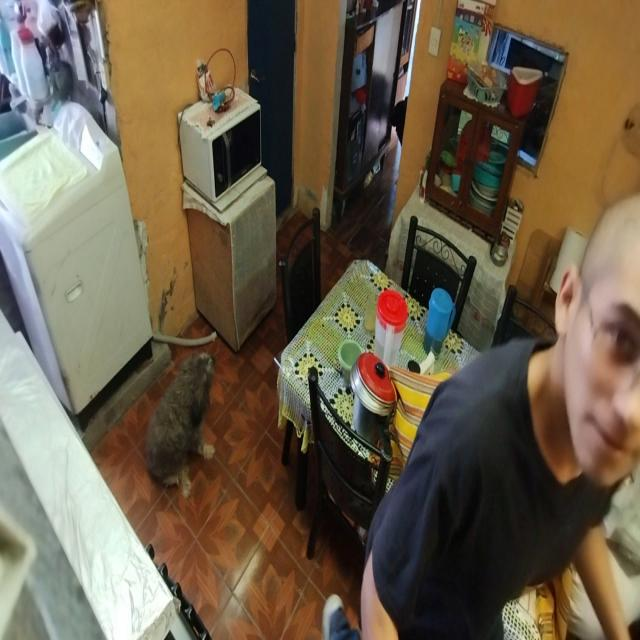adult: (322, 185, 639, 640)
